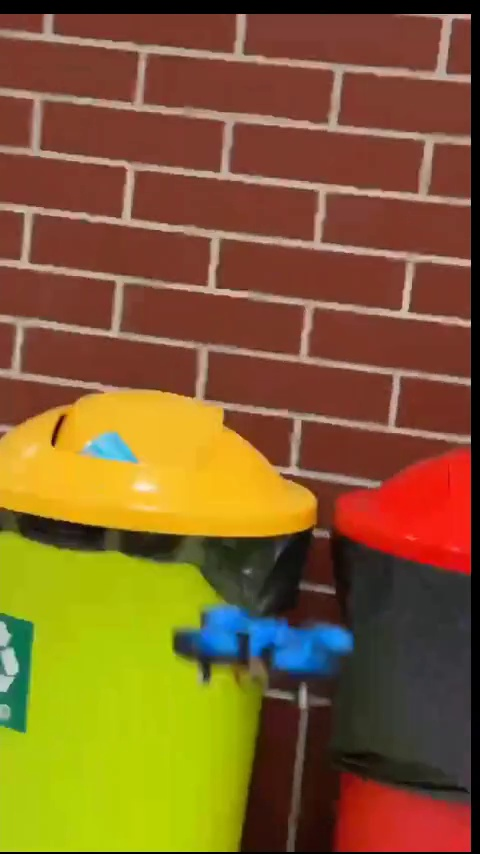drone: (186, 601, 362, 697)
